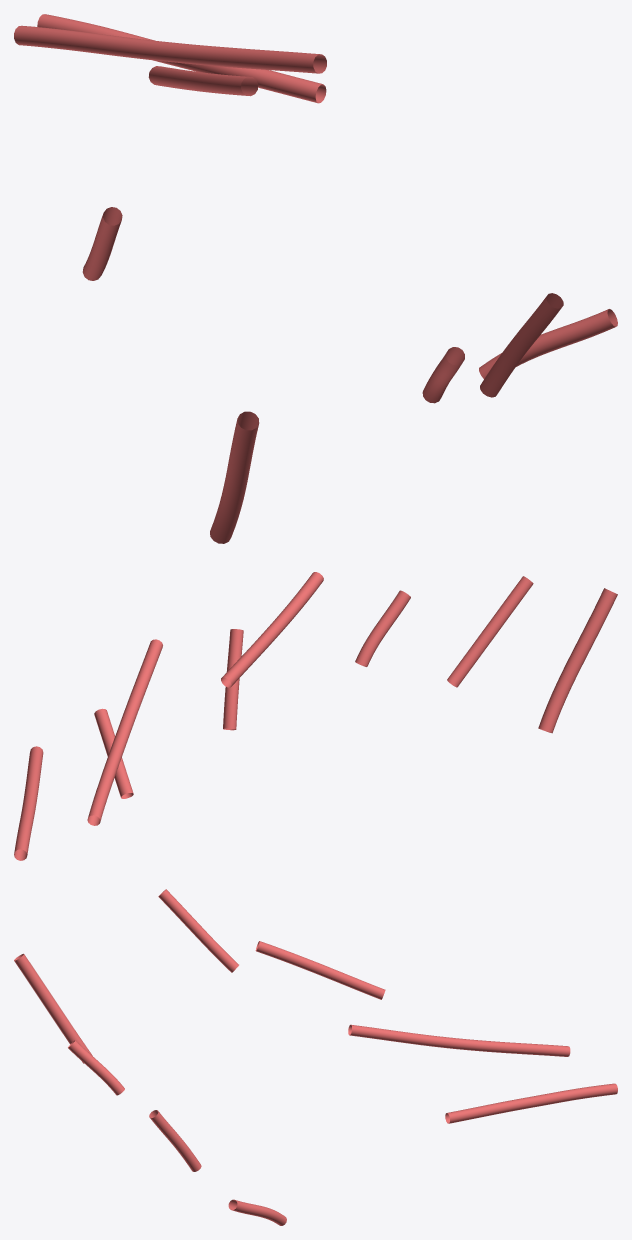
File: Perforating_branches_of_plantar_metatarsal_arteries.l_BezierCur.glb
3 renders of one model, top to bottom at view 1: azimuth 30°, elevation 25°; view 2: azimuth 150°, elevation 25°; view 3: azimuth 270°, elevation 25°, orthographic. The views are drawn at different scales.
Visible parts, largest first — view 1: Perforating_branches_of_plantar_metatarsal_arteries.l_Bezier; view 2: Perforating_branches_of_plantar_metatarsal_arteries.l_Bezier; view 3: Perforating_branches_of_plantar_metatarsal_arteries.l_Bezier.
Part boxes in pixels (x1,y1,x2,y2): Perforating_branches_of_plantar_metatarsal_arteries.l_Bezier: (14, 14, 617, 543); Perforating_branches_of_plantar_metatarsal_arteries.l_Bezier: (14, 572, 617, 860); Perforating_branches_of_plantar_metatarsal_arteries.l_Bezier: (14, 889, 617, 1225).
Size of the model in its own units: 0.0405 by 0.0256 by 0.0658.
